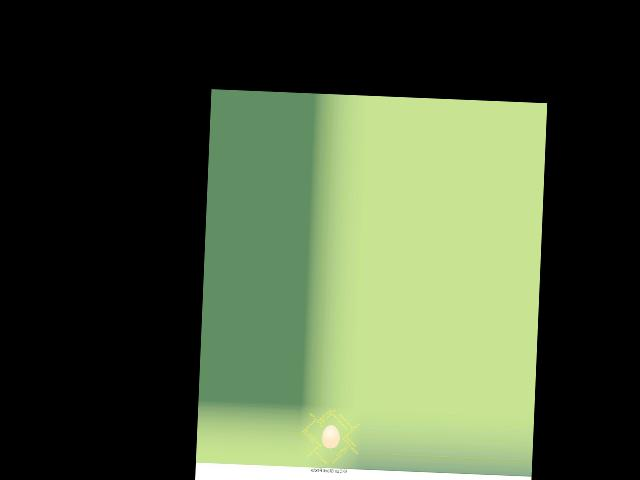egg: (321, 424, 340, 448)
